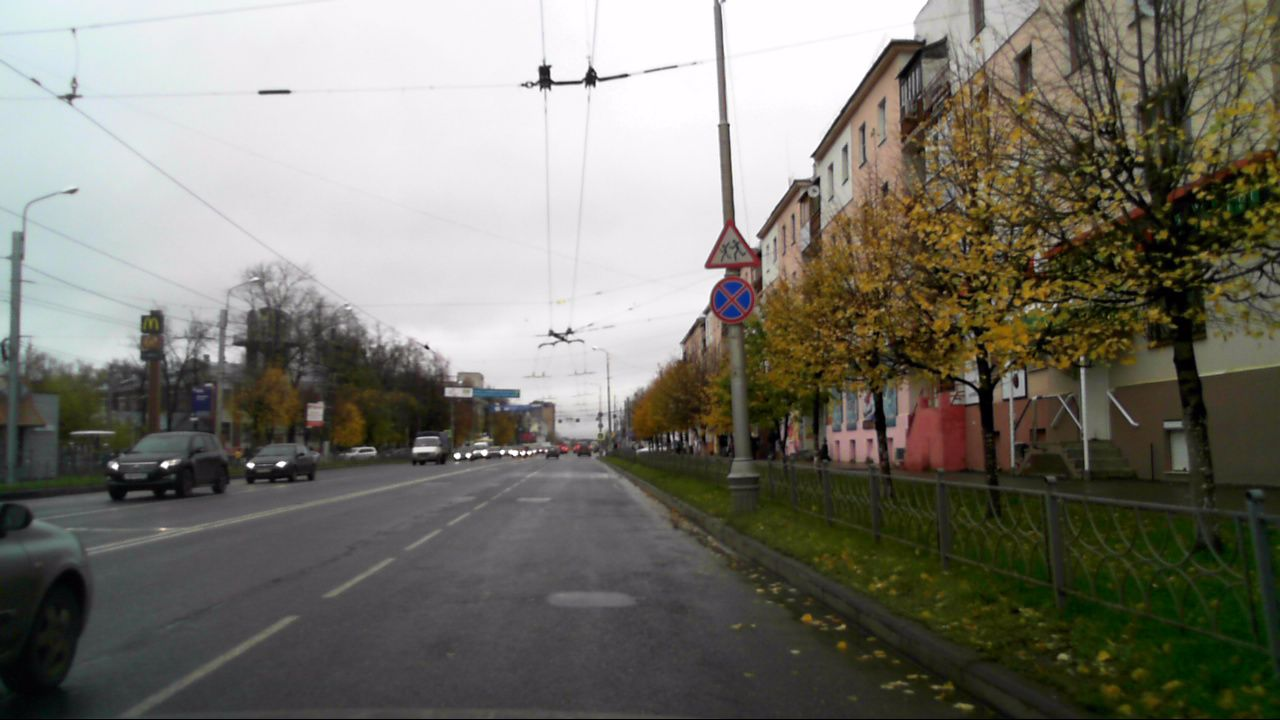No Parking: (710, 276, 755, 324)
